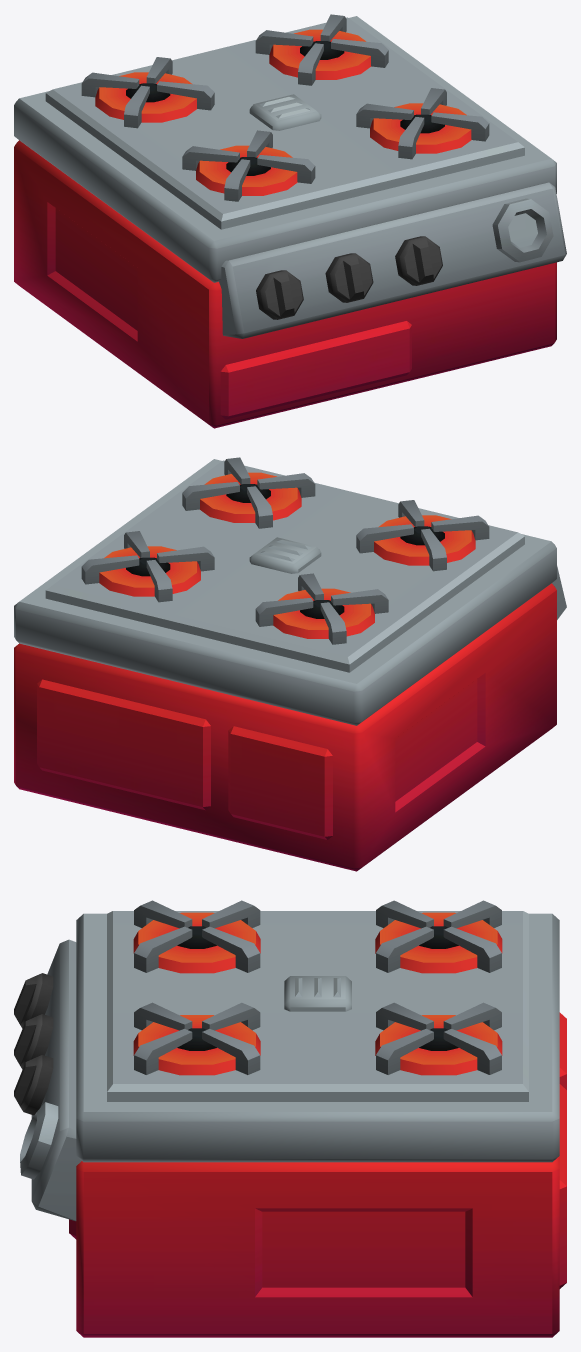
The model's file is kaykit-stove-multi.glb.
The picture shows the model from 3 angles, top to bottom: view 1: azimuth 30°, elevation 25°; view 2: azimuth 150°, elevation 25°; view 3: azimuth 270°, elevation 25°; orthographic projection. The views are drawn at different scales.
Parts seen in each view (by area): view 1: stove_multi; view 2: stove_multi; view 3: stove_multi.
Boxes of the visible parts, <box> form: stove_multi: <box>14,14,566,428</box>; stove_multi: <box>14,457,566,871</box>; stove_multi: <box>14,900,566,1337</box>.
Bounding box in the file's own units: 2 × 1.2 × 2.29.
1 material, 1 textured.
